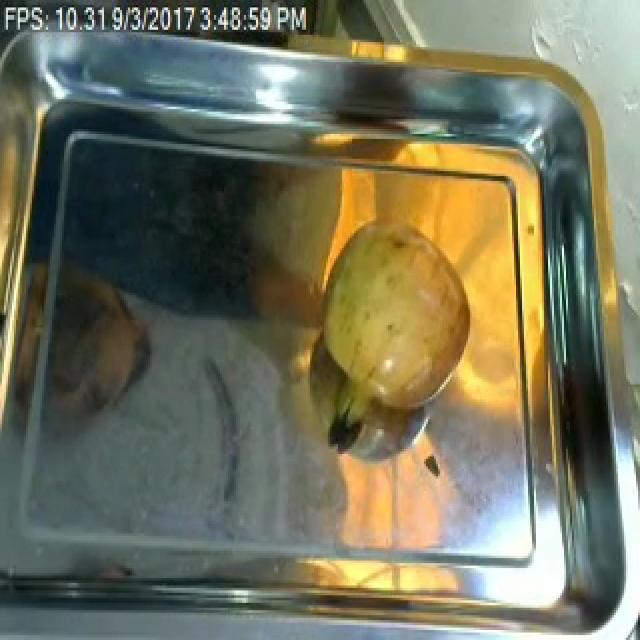fruit: (312, 203, 478, 424)
